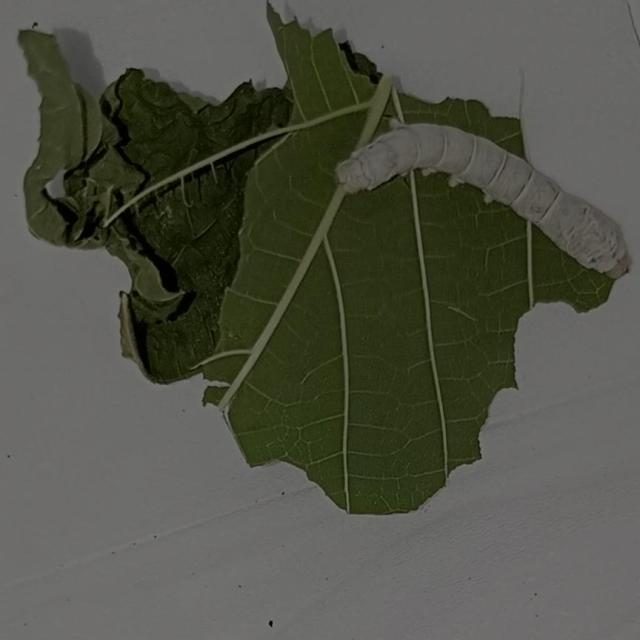Healthy: (317, 82, 640, 360)
